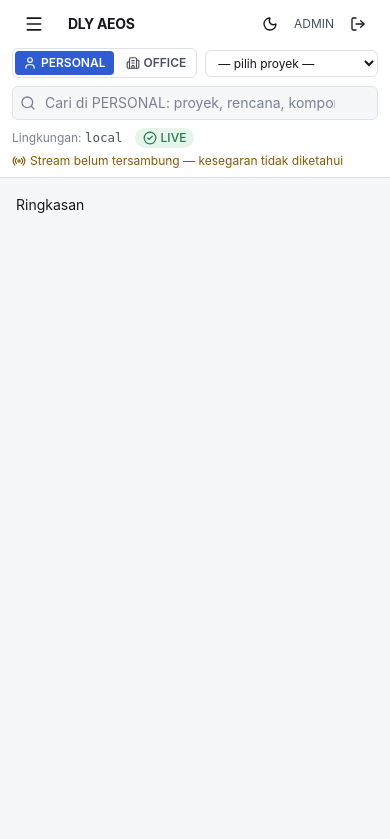
mobile navigation drawer › opens from the menu button, closes on Escape and after navigating
Step 1. Click the button named "Buka menu navigasi" → (34, 24), box x1=12 y1=8 x2=56 y2=40
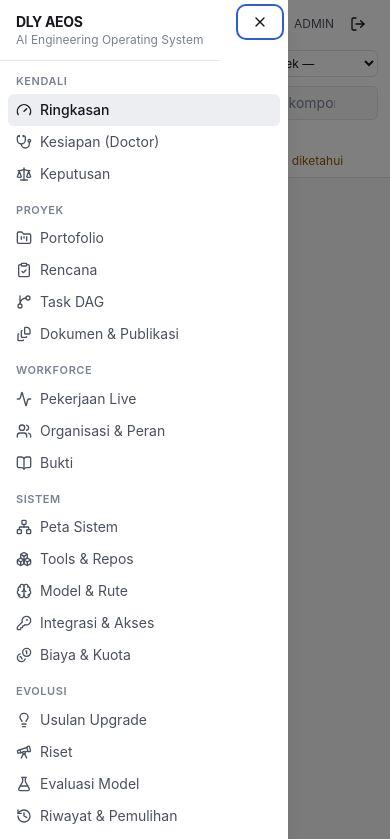
Result: the link "Tools & Repos" is shown at x1=16 y1=550 x2=134 y2=567
Step 2. Press Escape
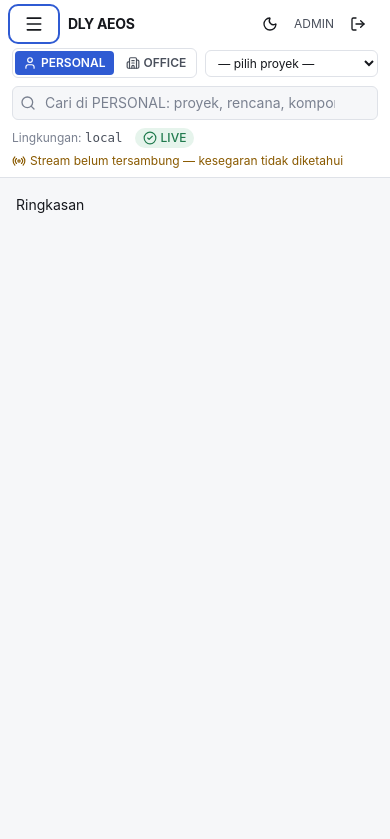
Result: the button "Navigasi" is gone
Step 3. Click the button named "Buka menu navigasi" → (34, 24), box x1=12 y1=8 x2=56 y2=40
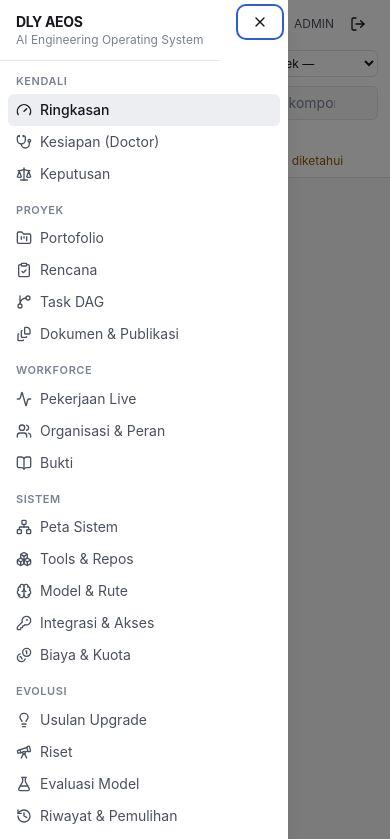
Step 4. Click the link "Tools & Repos" → (75, 558), box x1=16 y1=550 x2=134 y2=567
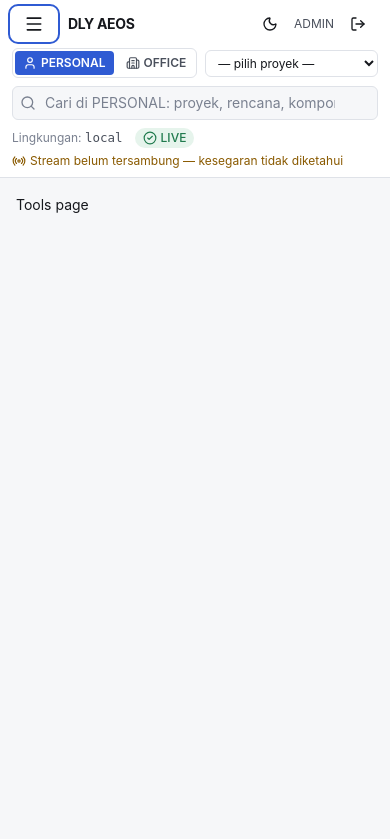
Result: the heading "Tools page" is shown at x1=16 y1=196 x2=89 y2=213
Result: the button "Navigasi" is gone
